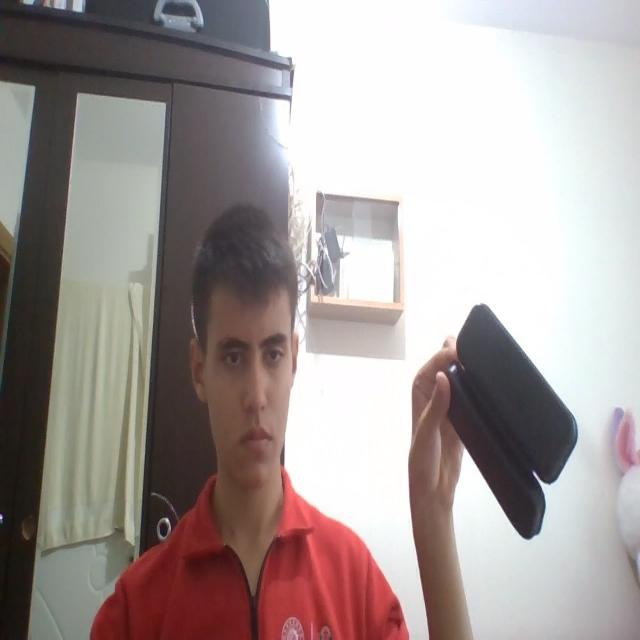glasses-box: (443, 302, 578, 543)
